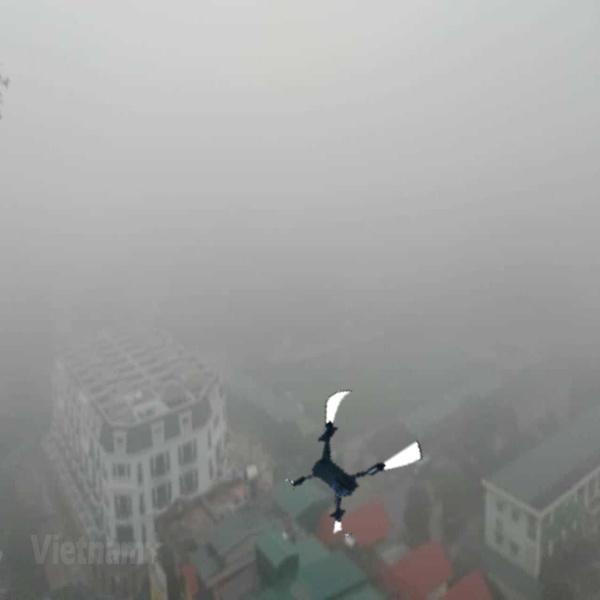drone: (277, 387, 421, 531)
